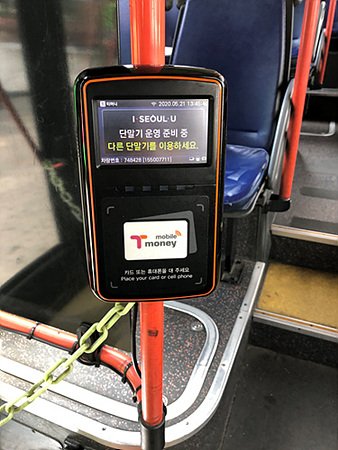terminal: (75, 64, 218, 294)
